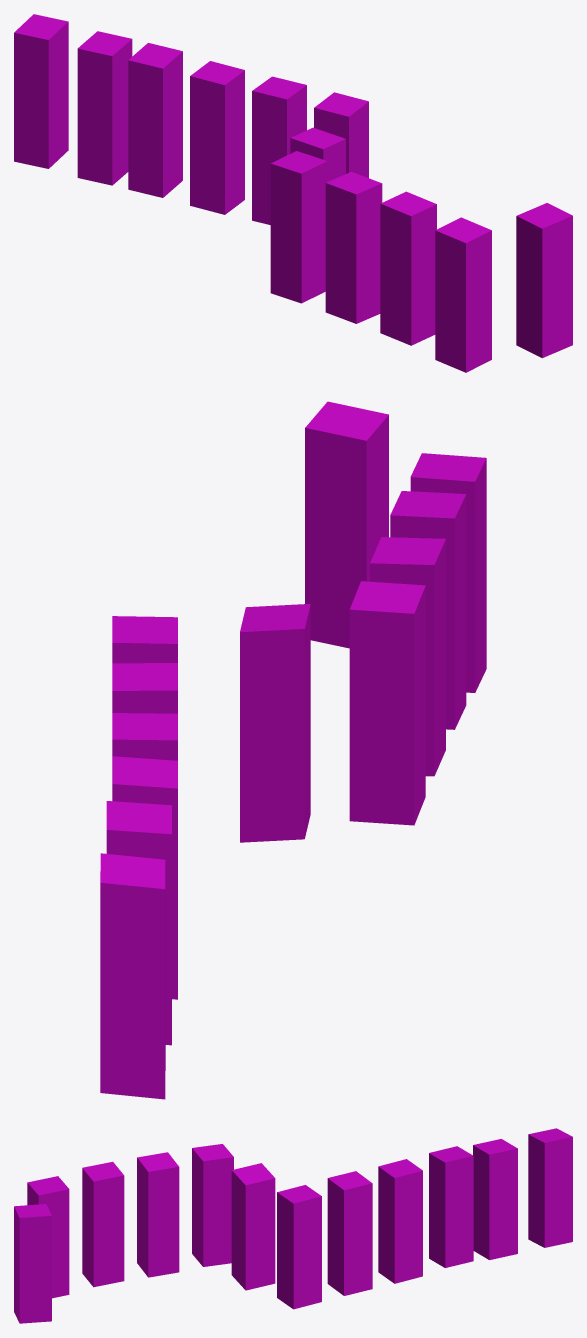
The model's file is M09_Z03_TeethBlock03.glb.
The picture shows the model from 3 angles, top to bottom: view 1: azimuth 30°, elevation 25°; view 2: azimuth 150°, elevation 25°; view 3: azimuth 270°, elevation 25°; orthographic projection. The views are drawn at different scales.
Visible parts, largest first — view 1: M09_Z03_TEETHBLOCK03; view 2: M09_Z03_TEETHBLOCK03; view 3: M09_Z03_TEETHBLOCK03.
Boxes of the visible parts, <box> form: M09_Z03_TEETHBLOCK03: <box>14,14,572,372</box>; M09_Z03_TEETHBLOCK03: <box>100,401,486,1099</box>; M09_Z03_TEETHBLOCK03: <box>14,1128,572,1323</box>.
Size of the model in its own units: 14.82 by 8.68 by 38.3.
